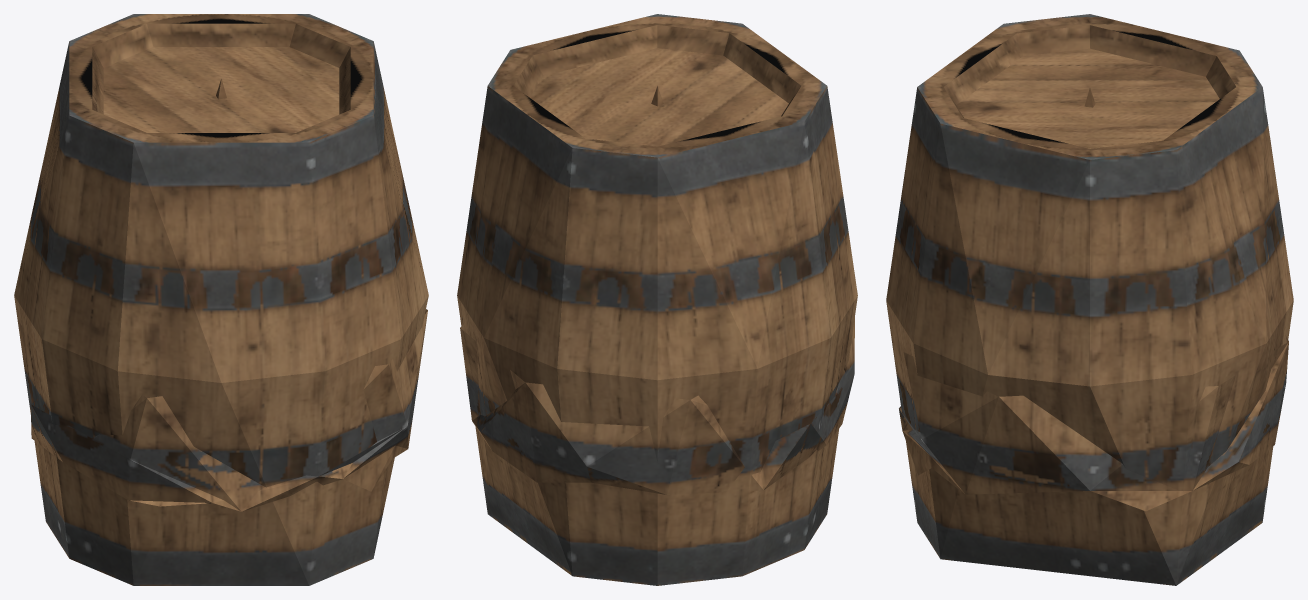
File: barrel_lod1.glb
The picture shows the model from 3 angles, left to right: view 1: azimuth 30°, elevation 25°; view 2: azimuth 150°, elevation 25°; view 3: azimuth 270°, elevation 25°; orthographic projection. The views are drawn at different scales.
Visible parts, largest first — view 1: geometry_0; view 2: geometry_0; view 3: geometry_0.
Part boxes in pixels (x1,y1,x2,y2): geometry_0: (14, 14, 428, 585); geometry_0: (457, 14, 857, 585); geometry_0: (886, 14, 1293, 585).
Bounding box in the file's own units: 0.9025 × 1.06 × 0.9025.
Materials: 1 (1 with a texture image).
